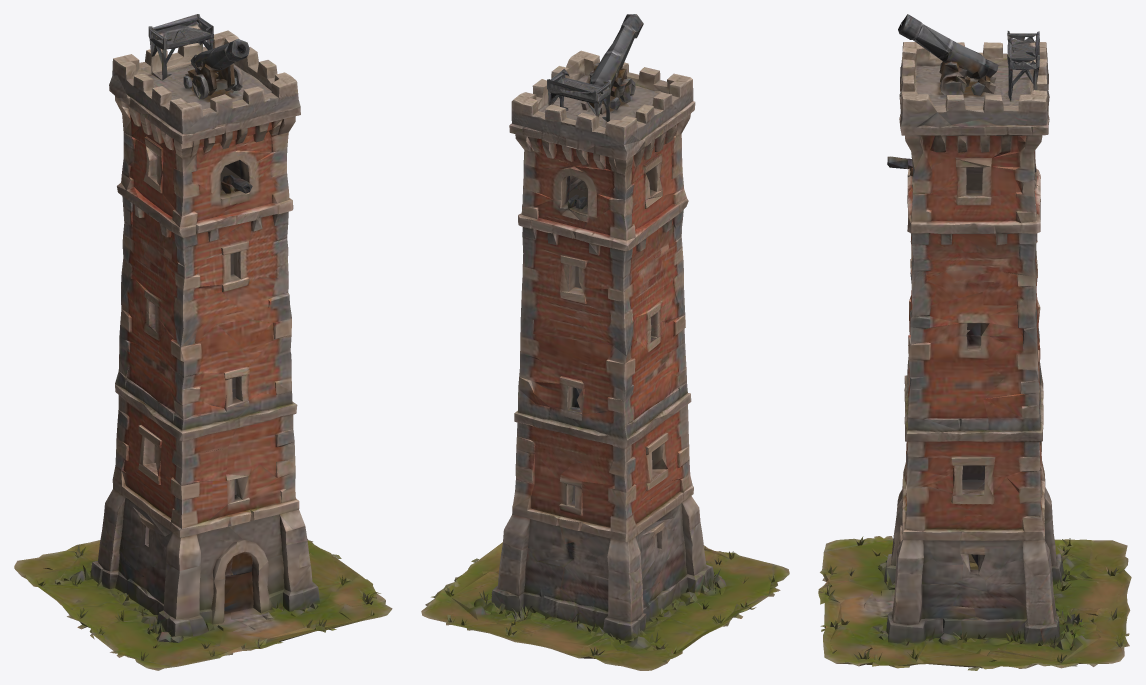
File: tower.glb
The picture shows the model from 3 angles, left to right: view 1: azimuth 30°, elevation 25°; view 2: azimuth 150°, elevation 25°; view 3: azimuth 270°, elevation 25°; orthographic projection. The views are drawn at different scales.
Bounding box in the file's own units: 0.9306 × 1.9 × 0.9086.
1 material, 1 textured.
